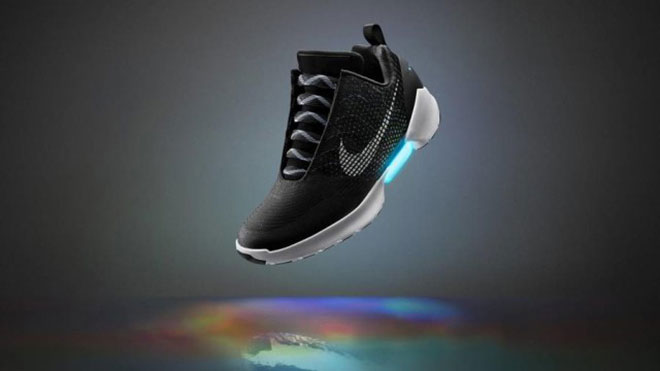nike: (337, 81, 403, 180)
